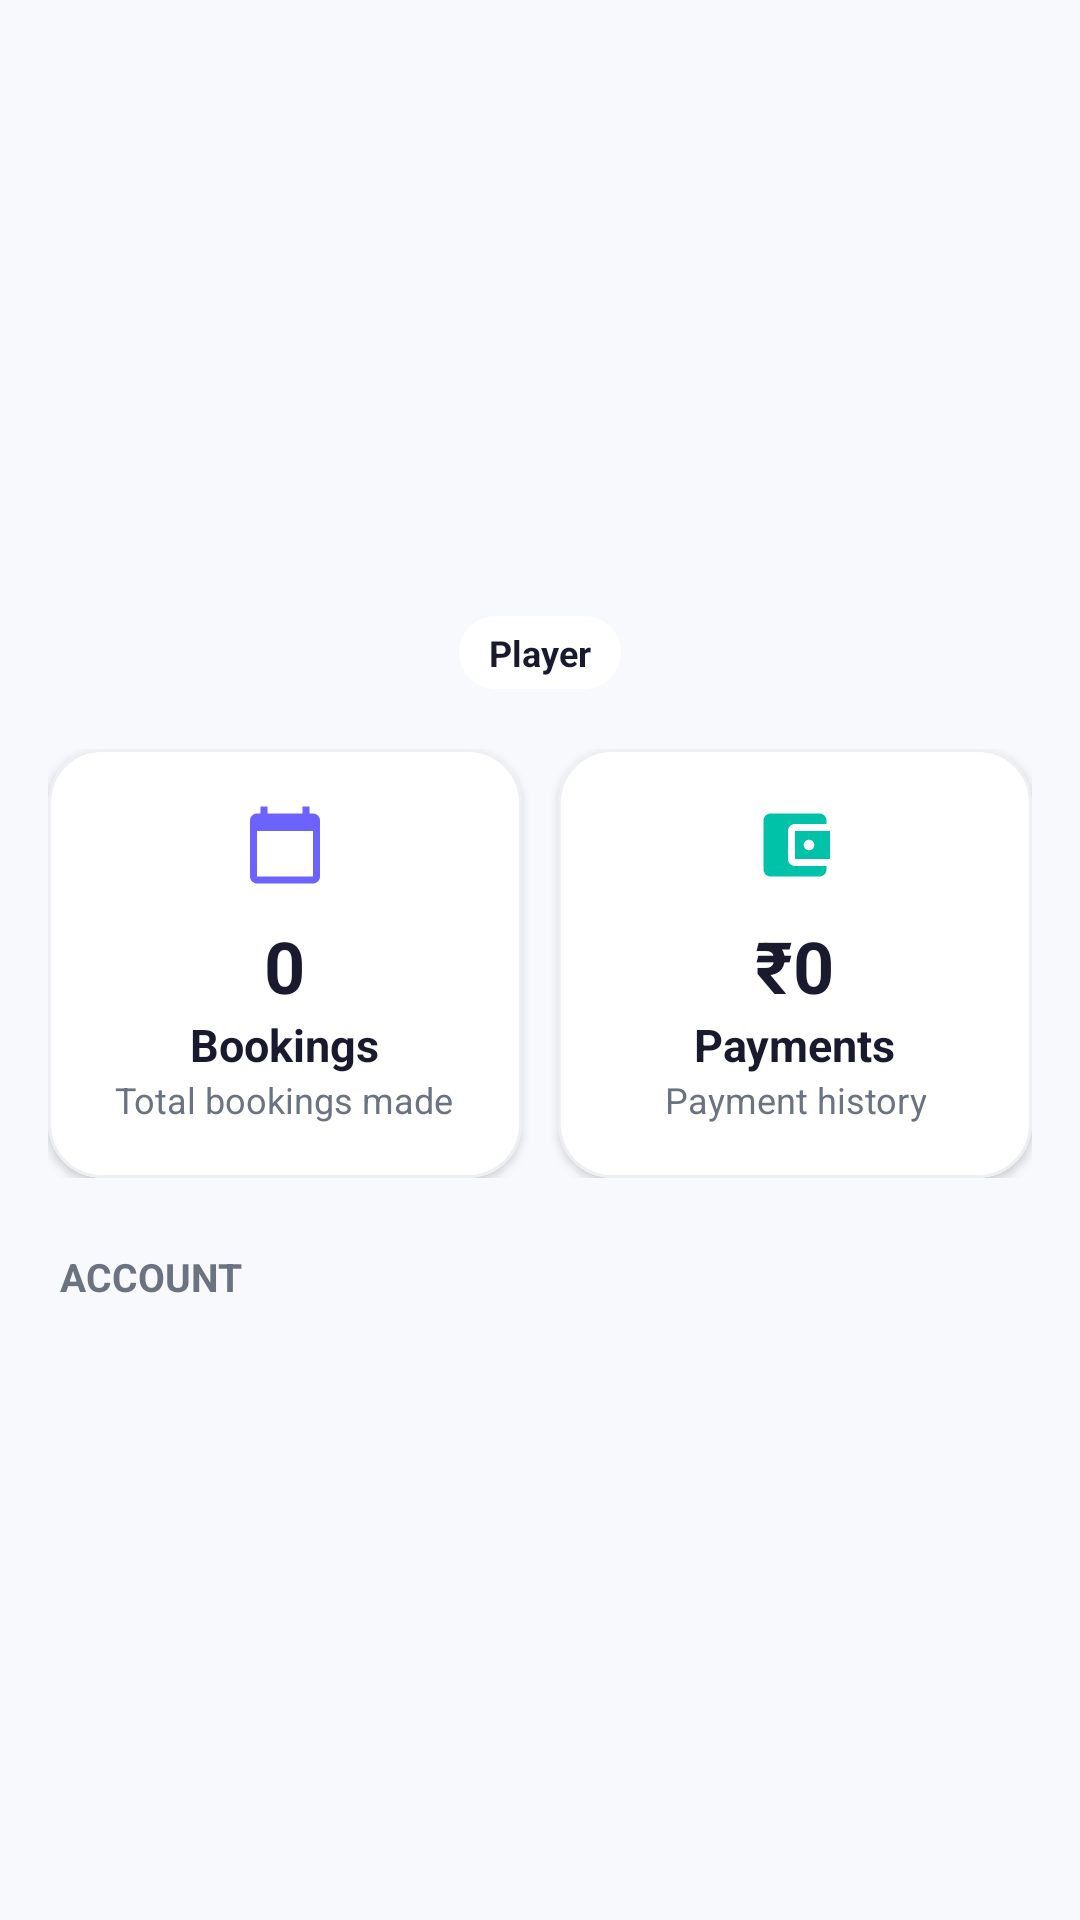

Icon bounding boxes for this 1080px x 1920px phone screenshot, format {"left": x1, "top": y1, "right": x2, "bottom": y2}:
calendar: {"left": 250, "top": 806, "right": 320, "bottom": 884}
wallet: {"left": 763, "top": 813, "right": 830, "bottom": 877}
